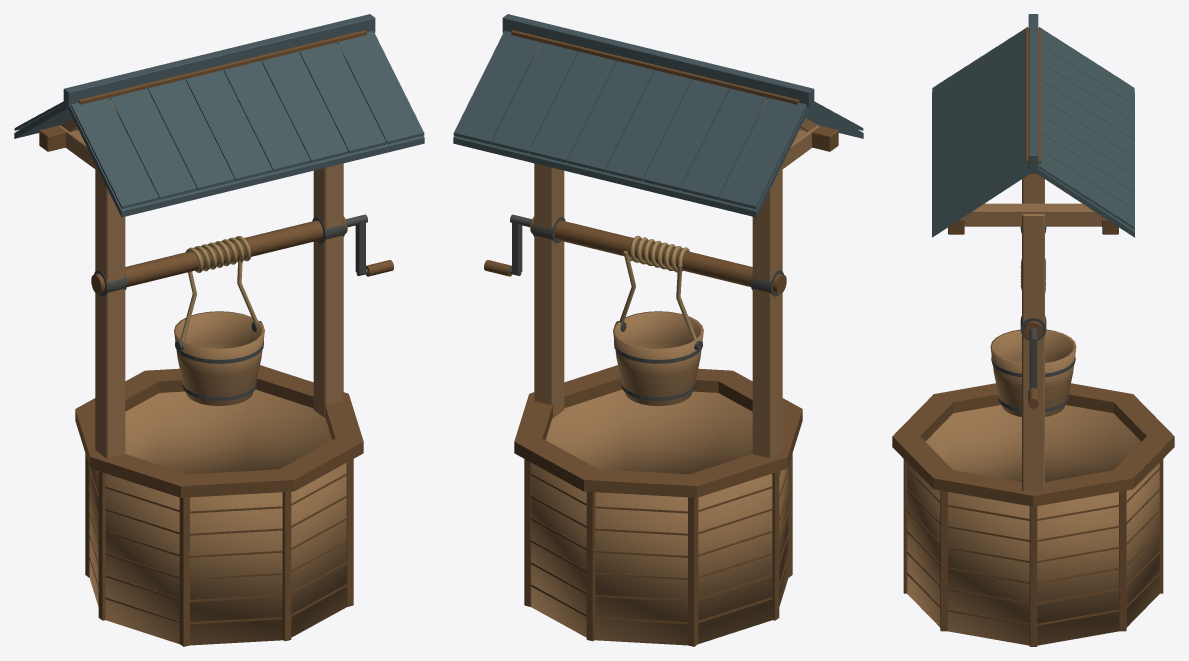
The model's file is A-NEW-20261027-GARDEN-WELL-001_LOD1_R3.fbx.
3 renders of one model, left to right at view 1: azimuth 30°, elevation 25°; view 2: azimuth 150°, elevation 25°; view 3: azimuth 270°, elevation 25°, orthographic. The views are drawn at different scales.
Visible parts, largest first — view 1: open octagonal well wall, wide octagonal open rim, roof support post -0.54, roof support post 0.54, hollow curved stave bucket, ridge cap, horizontal wooden spindle, pitched roof substrate -1, ridge timber, corner stile 5, corner stile 6, continuous spindle rope coil (+59 smaller); view 2: open octagonal well wall, wide octagonal open rim, roof support post -0.54, roof support post 0.54, hollow curved stave bucket, ridge cap, horizontal wooden spindle, pitched roof substrate 1, ridge timber, corner stile 3, corner stile 2, continuous spindle rope coil (+59 smaller); view 3: open octagonal well wall, wide octagonal open rim, roof support post 0.54, hollow curved stave bucket, post crossbar 0.54, ridge cap, corner stile 0, corner stile 1, corner stile 7, ridge timber, pitched roof substrate -1, pitched roof substrate 1 (+9 smaller).
Part boxes in pixels (x1,y1,x2,y2): open octagonal well wall: (89, 389, 346, 645); wide octagonal open rim: (75, 365, 363, 497); roof support post -0.54: (95, 164, 125, 458); roof support post 0.54: (313, 163, 343, 418); hollow curved stave bucket: (174, 311, 264, 405); ridge cap: (63, 14, 375, 107); horizontal wooden spindle: (91, 216, 347, 294); pitched roof substrate -1: (68, 107, 424, 217); ridge timber: (78, 30, 366, 104); corner stile 5: (179, 497, 189, 646); corner stile 6: (282, 491, 291, 641); continuous spindle rope coil: (186, 236, 251, 272); open octagonal well wall: (531, 389, 788, 645); wide octagonal open rim: (514, 365, 802, 497); roof support post -0.54: (752, 164, 782, 458); roof support post 0.54: (534, 163, 564, 418); hollow curved stave bucket: (613, 311, 703, 405); ridge cap: (502, 14, 814, 107); horizontal wooden spindle: (530, 216, 786, 294); pitched roof substrate 1: (453, 107, 809, 217); ridge timber: (511, 30, 799, 104); corner stile 3: (688, 497, 698, 646); corner stile 2: (586, 491, 595, 641); continuous spindle rope coil: (623, 235, 689, 272); open octagonal well wall: (907, 405, 1159, 645); wide octagonal open rim: (892, 383, 1174, 506); roof support post 0.54: (1022, 214, 1044, 490); hollow curved stave bucket: (990, 329, 1076, 416); post crossbar 0.54: (964, 203, 1102, 226); ridge cap: (1028, 14, 1038, 169); corner stile 0: (1029, 506, 1037, 646); corner stile 1: (1119, 490, 1126, 631); corner stile 7: (940, 490, 947, 631); ridge timber: (1025, 28, 1041, 173); pitched roof substrate -1: (932, 92, 1033, 237); pitched roof substrate 1: (1033, 92, 1134, 237).
Size of the model in its own units: 161 by 254 by 128.
